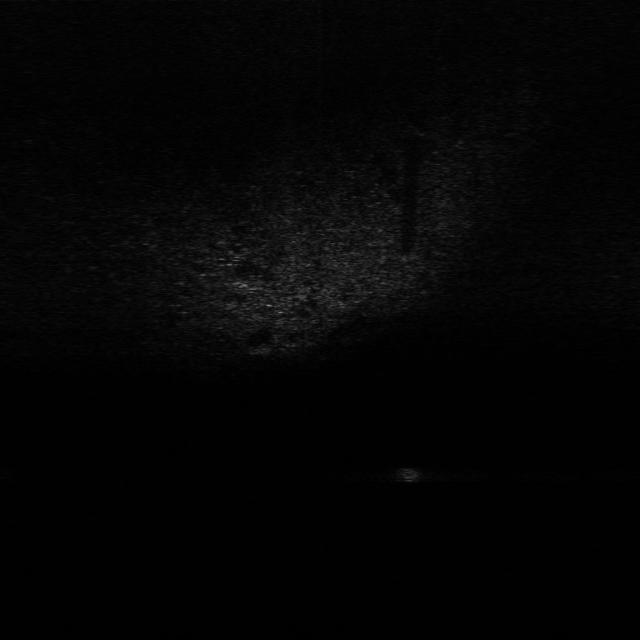cylinder: (391, 463, 427, 485)
